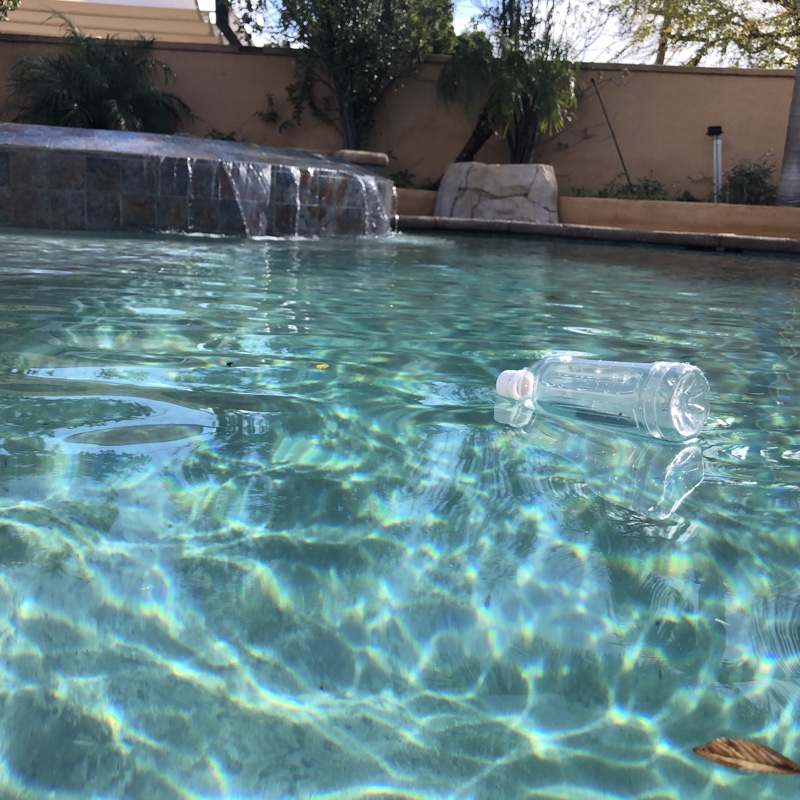Plastic Bottle: (492, 348, 713, 442)
